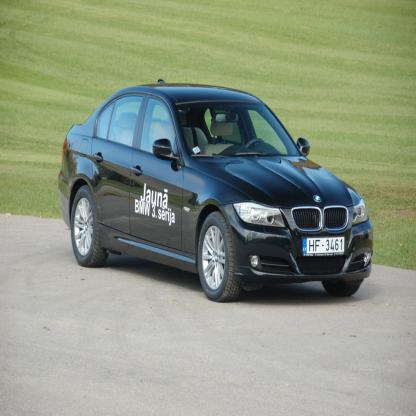Car: (58, 79, 373, 302)
